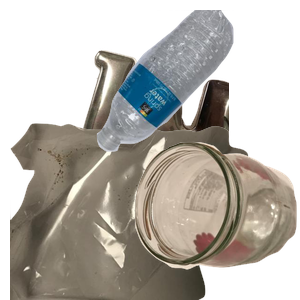glass: (132, 139, 300, 300)
metal: (60, 47, 300, 227)
plastic: (94, 10, 300, 154)
trash: (10, 120, 250, 300)
